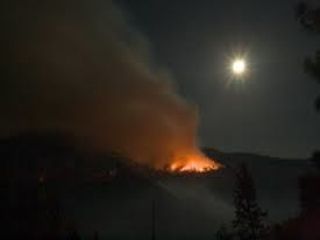fire: (171, 156, 224, 176)
smoke: (69, 40, 214, 166)
